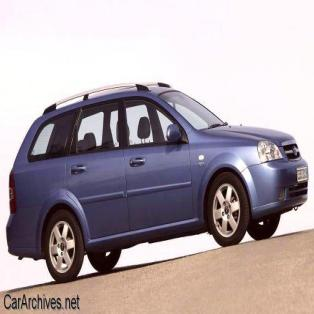Auto: (5, 81, 309, 283)
